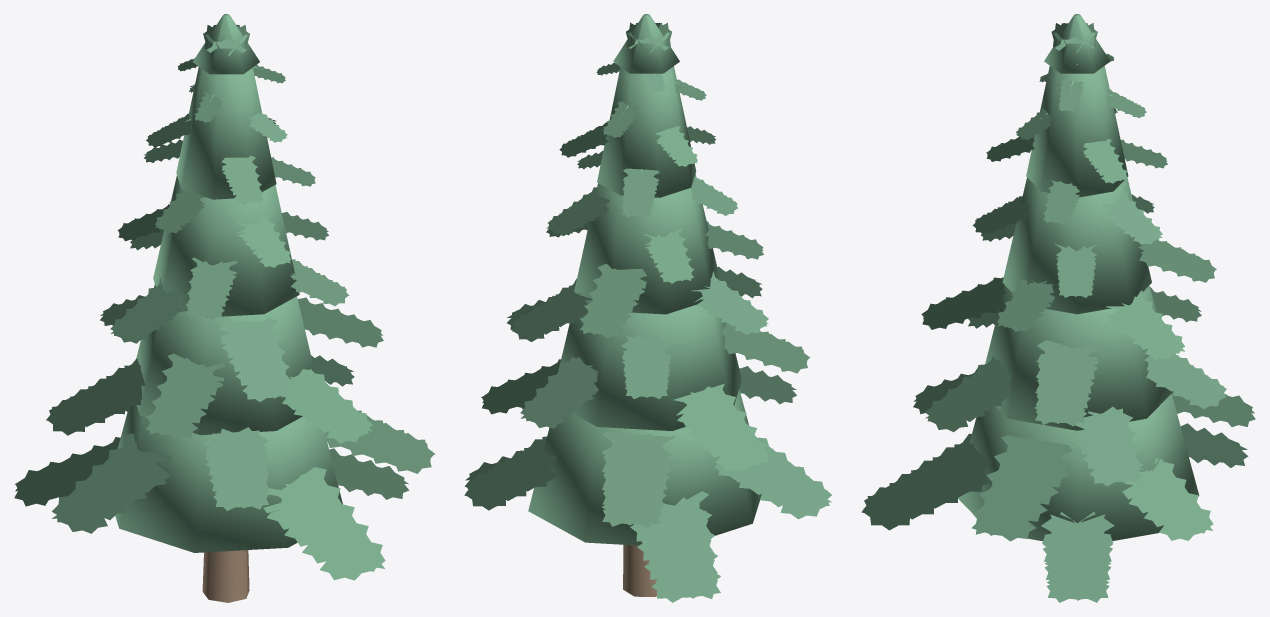
File: pine_small.glb
3 renders of one model, left to right at view 1: azimuth 30°, elevation 25°; view 2: azimuth 150°, elevation 25°; view 3: azimuth 270°, elevation 25°, orthographic.
Parts seen in each view (by area): view 1: pine_small; view 2: pine_small; view 3: pine_small.
Boxes of the visible parts, x1=… form: pine_small: x1=14, y1=14, x2=435, y2=602; pine_small: x1=464, y1=14, x2=831, y2=602; pine_small: x1=861, y1=14, x2=1255, y2=602.
Bounding box in the file's own units: 0.5742 × 0.8917 × 0.5591.
